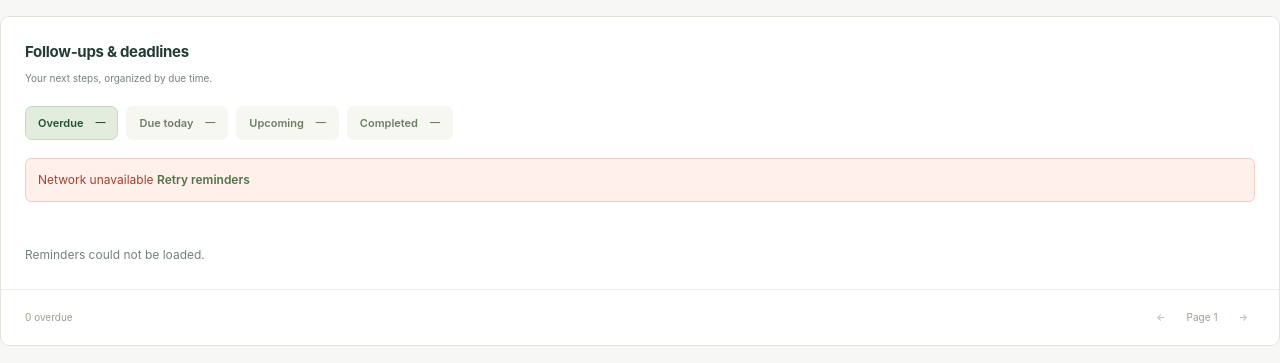
Scenario: shows request failures and supports retry
The image size is (1280, 363).
Check: the message shows "Network unavailable", box [38, 172, 154, 187]
Step 1. Click the button "Retry reminders" → (203, 180), box [157, 171, 250, 189]
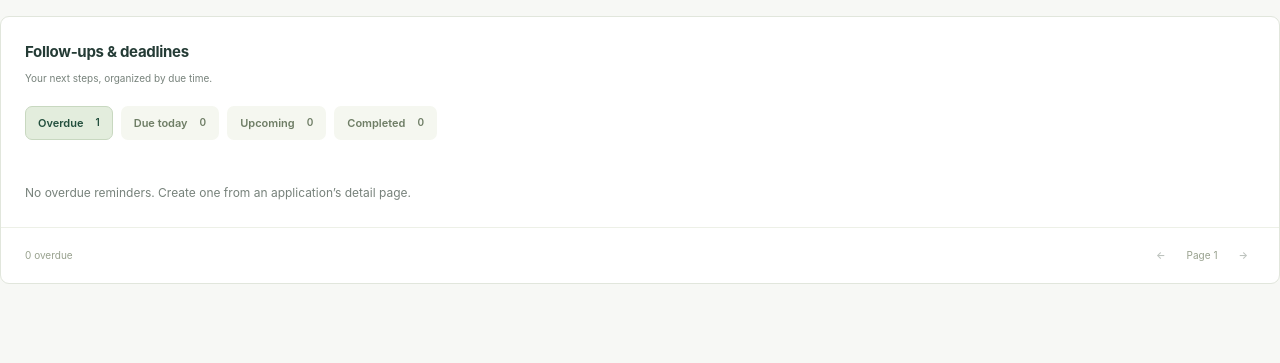
Check: the text "No overdue reminders" is shown, box [25, 185, 411, 200]
